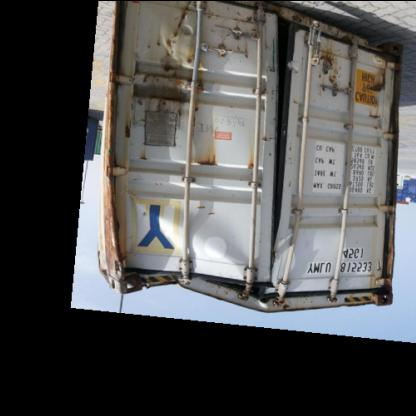Damage: (252, 22, 307, 282), (97, 220, 232, 294), (102, 1, 139, 172), (153, 8, 200, 116), (340, 255, 398, 312), (361, 52, 396, 120), (180, 152, 226, 184), (317, 38, 341, 93)
